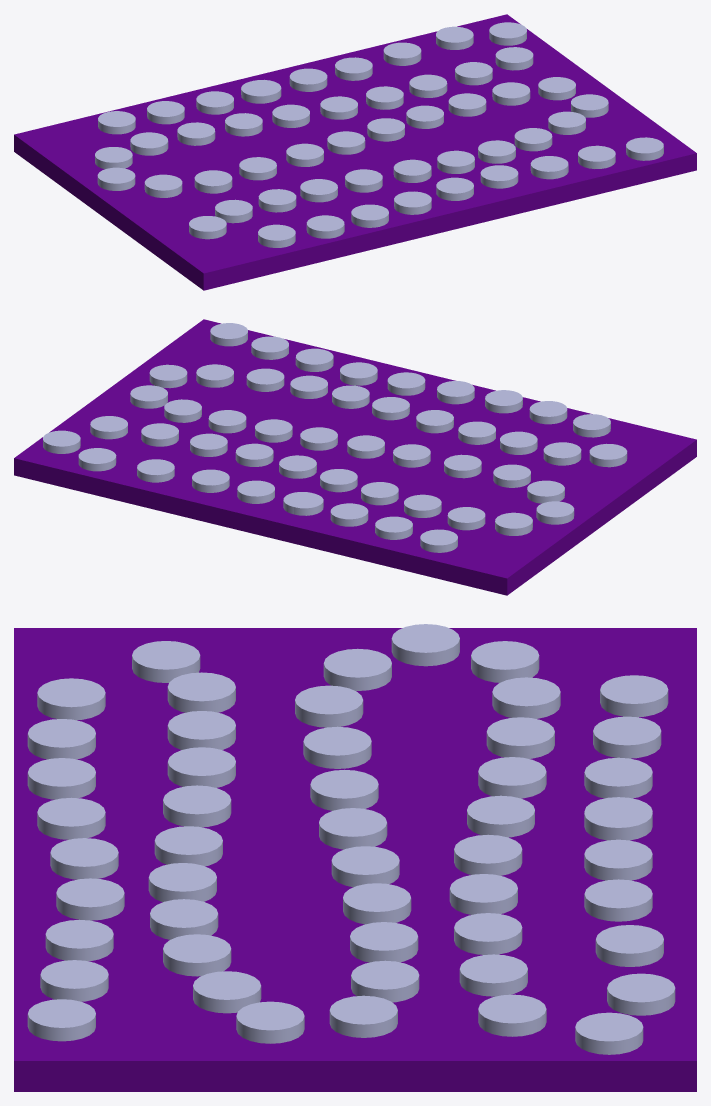
The model's file is Papan Aja.fbx.
3 renders of one model, top to bottom at view 1: azimuth 30°, elevation 25°; view 2: azimuth 150°, elevation 25°; view 3: azimuth 270°, elevation 25°, orthographic. The views are drawn at different scales.
Visible parts, largest first — view 1: papan aja; view 2: papan aja; view 3: papan aja.
Part boxes in pixels (x1=…): papan aja: x1=14, y1=14, x2=696, y2=290; papan aja: x1=14, y1=319, x2=696, y2=595; papan aja: x1=14, y1=624, x2=696, y2=1091.
Bounding box in the file's own units: 563 × 26.9 × 375.
